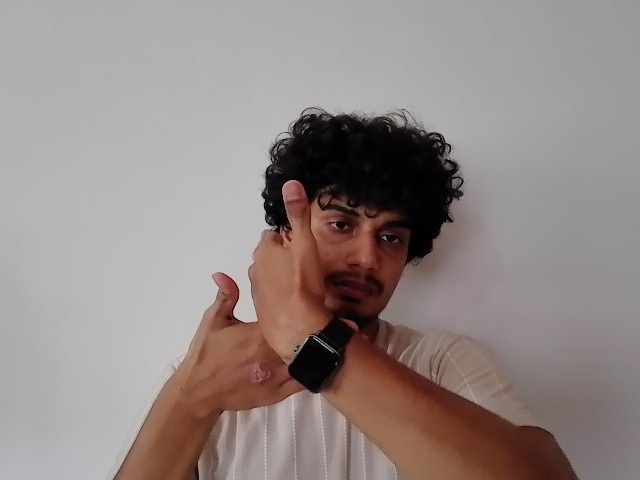work: (170, 172, 346, 401)
